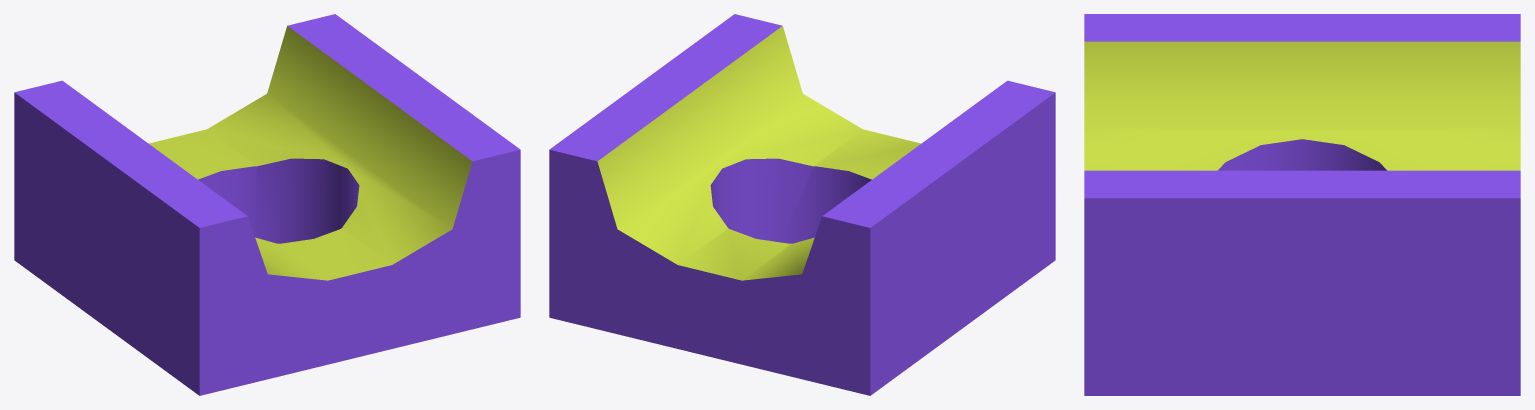
File: straight_hole.fbx
3 renders of one model, left to right at view 1: azimuth 30°, elevation 25°; view 2: azimuth 150°, elevation 25°; view 3: azimuth 270°, elevation 25°, orthographic. The views are drawn at different scales.
Parts seen in each view (by area): view 1: straight_hole; view 2: straight_hole; view 3: straight_hole.
Part boxes in pixels (<box>): straight_hole: <box>14,14,520,395</box>; straight_hole: <box>549,14,1055,395</box>; straight_hole: <box>1084,14,1520,395</box>.
Bounding box in the file's own units: 10 × 5 × 10.
